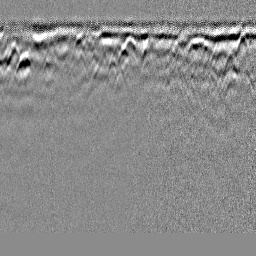cavity: (120, 34, 138, 55)
